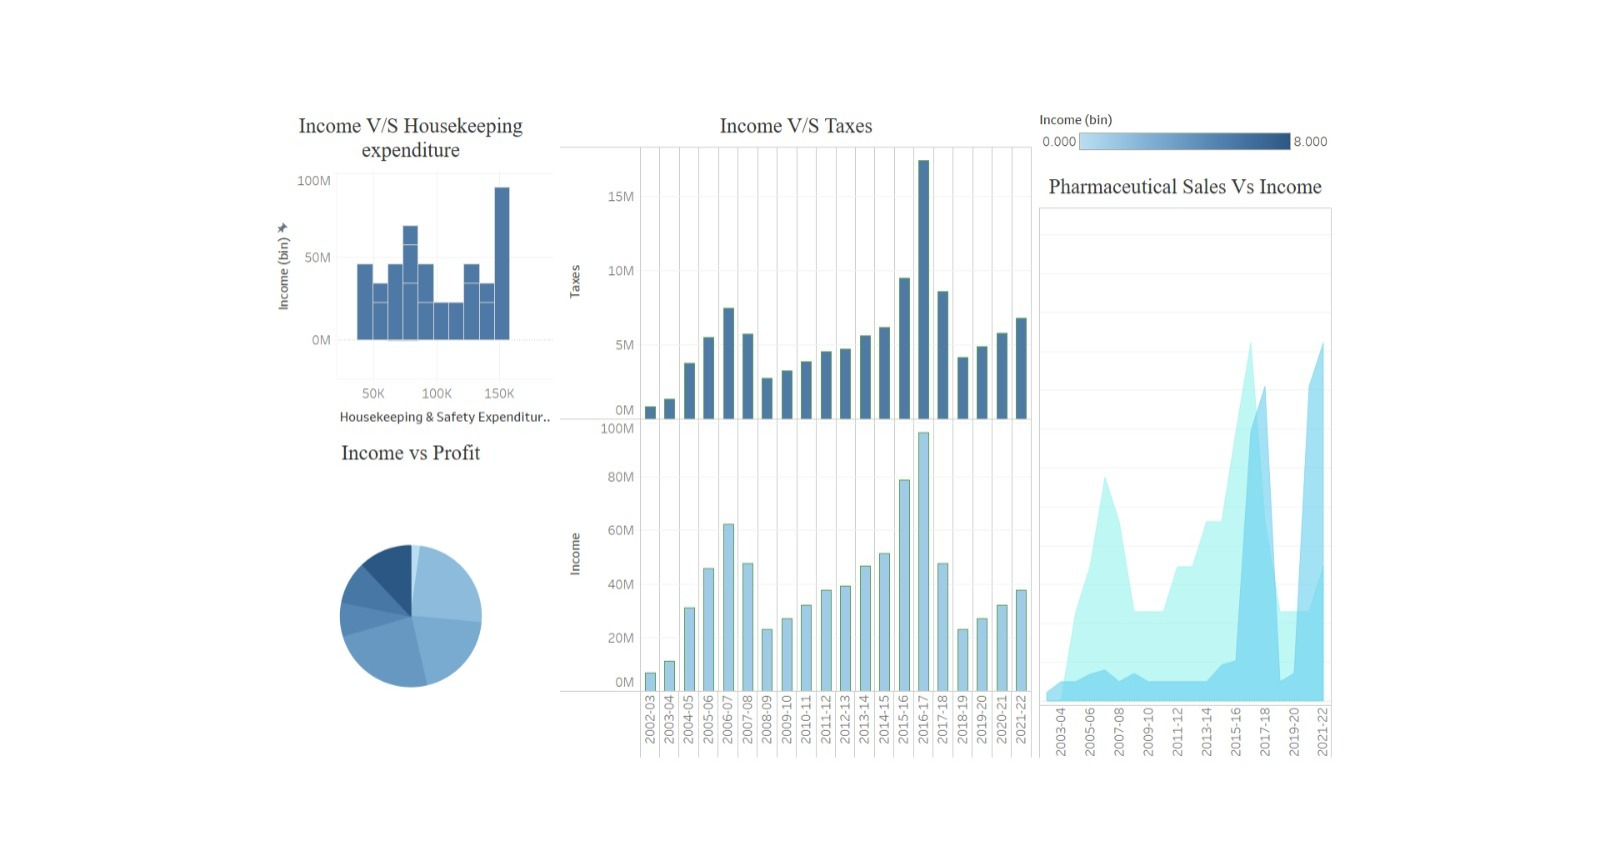

The page's visual inventory and layout, read from the dashboard file:
{"tool":"tableau","page":{"name":"Income Relatec","canvas":[1300,800],"ordinal":2},"visuals":[{"type":"worksheet","title":"Sheet 4","mark":"Automatic","rows":["Income (bin)"],"cols":["Housekeeping & Safety Expenditure (bin)"],"box":[8,8,349.8,392]},{"type":"worksheet","title":"Sheet 13","mark":"Bar","rows":["Taxes","Income"],"cols":["Financial Year"],"box":[357.8,8,575.2,784]},{"type":"legend","title":"Sheet 20","param":"[federated.1j8pnng0fvy01t17p56b11vj0iwo].[none:Income (bin):qk]","box":[933,8,359,81]},{"type":"worksheet","title":"Sheet 22","mark":"Area","rows":["Income (bin)","Pharmaceutical Sales"],"cols":["Financial Year"],"box":[933,89,359,703]},{"type":"worksheet","title":"Sheet 20","mark":"Pie","box":[8,400,349.8,392]}]}

Visuals, with their boxes on the page's 1300x800 design canvas (x1, y1, x2, y2). These are canvas units, not pixel positions in the 1600x856 screenshot, which may show the page scaled, cropped or inside an application window:
"Sheet 4" worksheet: region(8, 8, 358, 400)
"Sheet 13" worksheet (Bar marks): region(358, 8, 933, 792)
"Sheet 20" legend: region(933, 8, 1292, 89)
"Sheet 22" worksheet (Area marks): region(933, 89, 1292, 792)
"Sheet 20" worksheet (Pie marks): region(8, 400, 358, 792)
